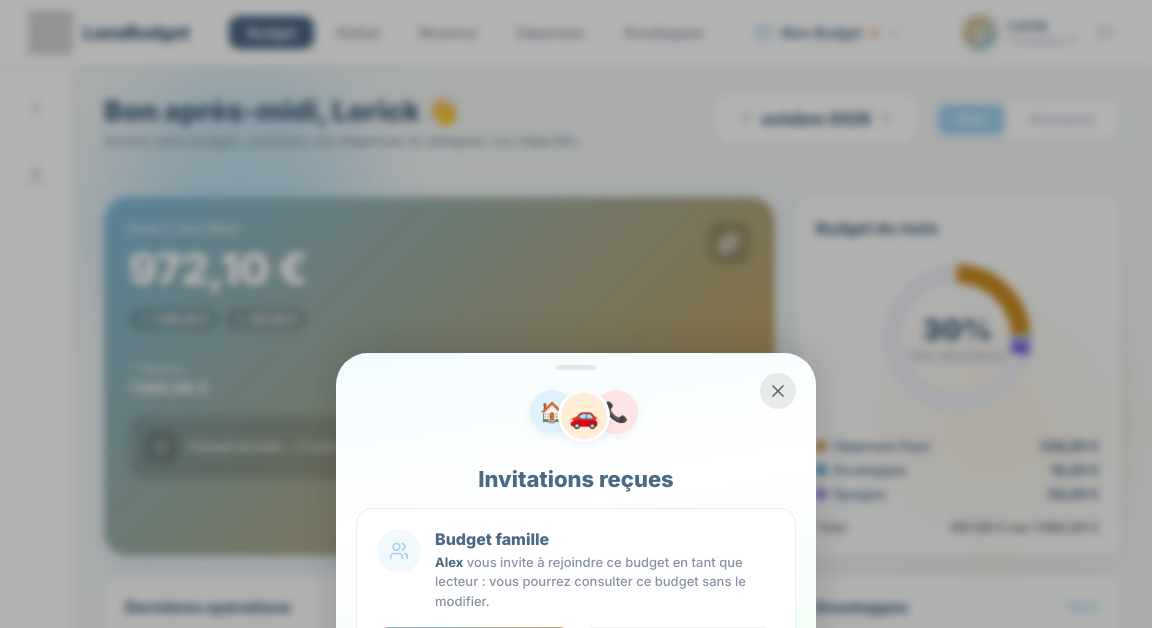
Test: invitations reçues › une invitation ignorée reste accessible depuis le sélecteur de budgets
Click the 1st button at x=778, y=390, box [760,372,796,408]
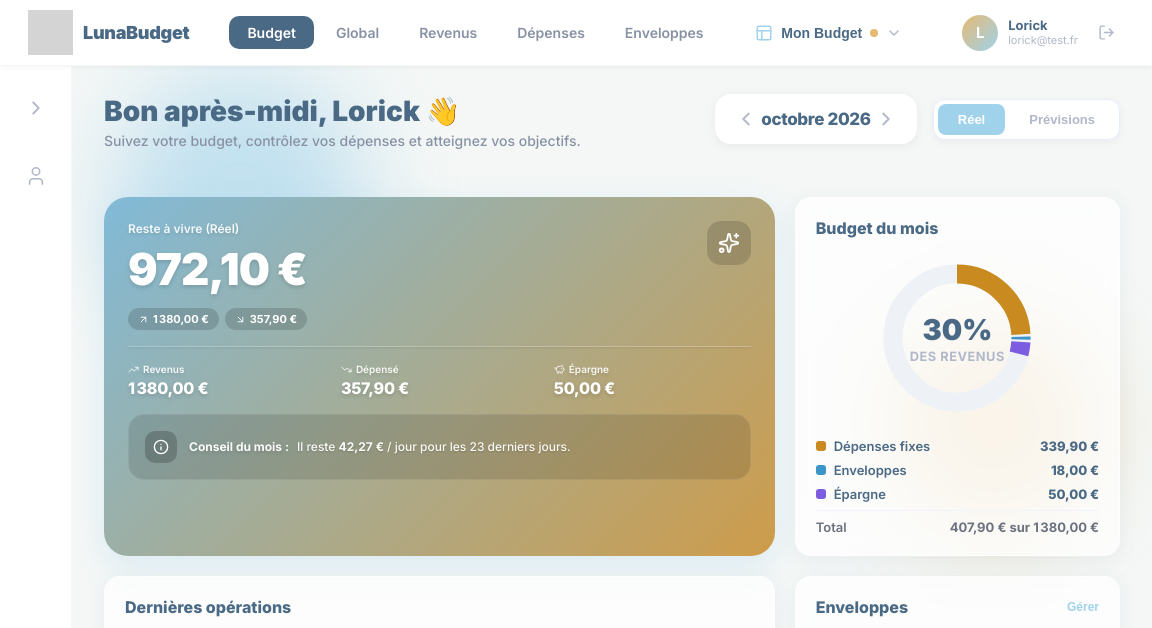
Check: the element named "Invitations en attente" is shown, box [870,28,878,36]
Click the button "Mon Budget" at x=829, y=32, box [743,16,914,50]
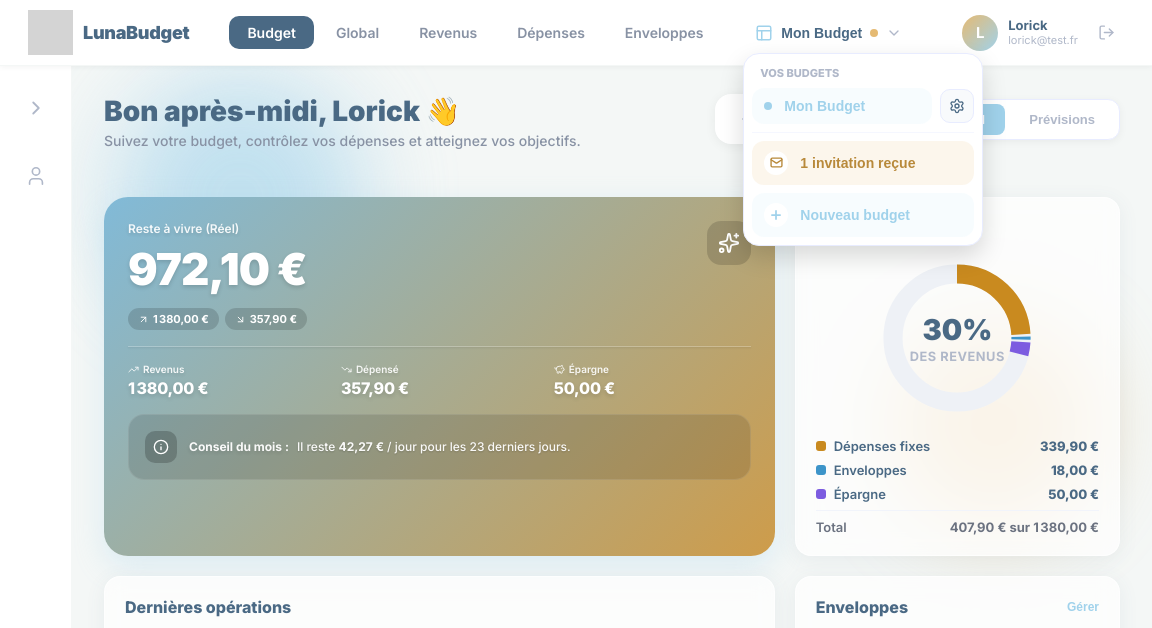
Check: the button "1 invitation reçue" is shown
Click the button "1 invitation reçue" at x=863, y=163, box [752,141,974,185]
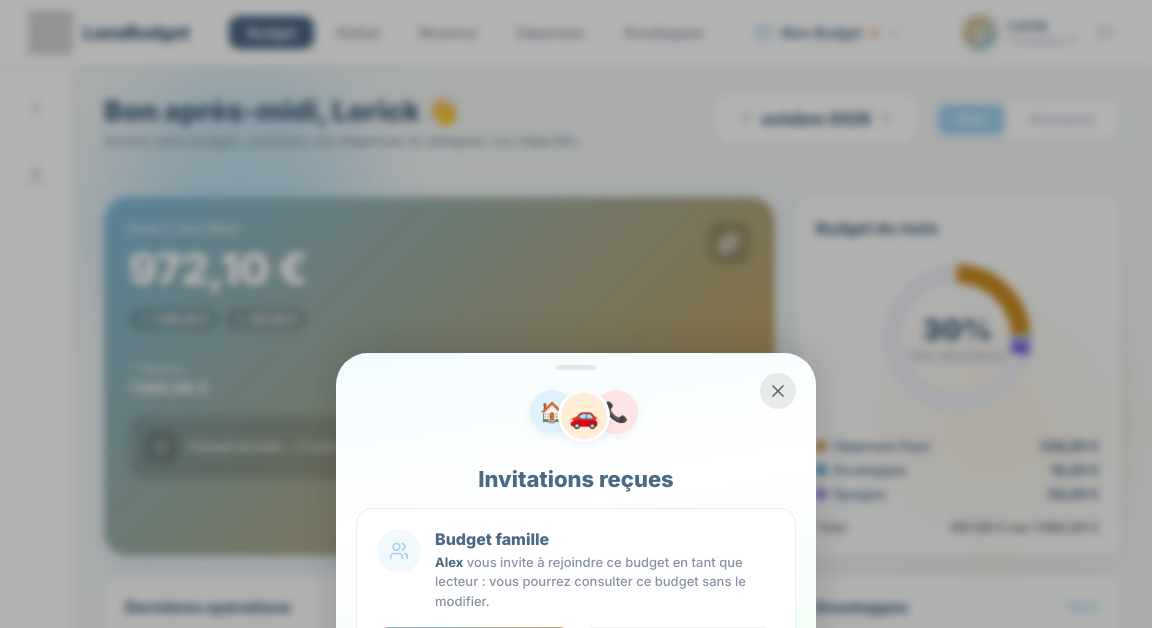
Check: the text "Alex vous invite à rejoindre ce budget" is shown, box [435,552,775,611]
